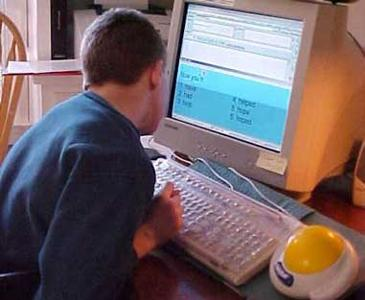person: (4, 7, 183, 300)
